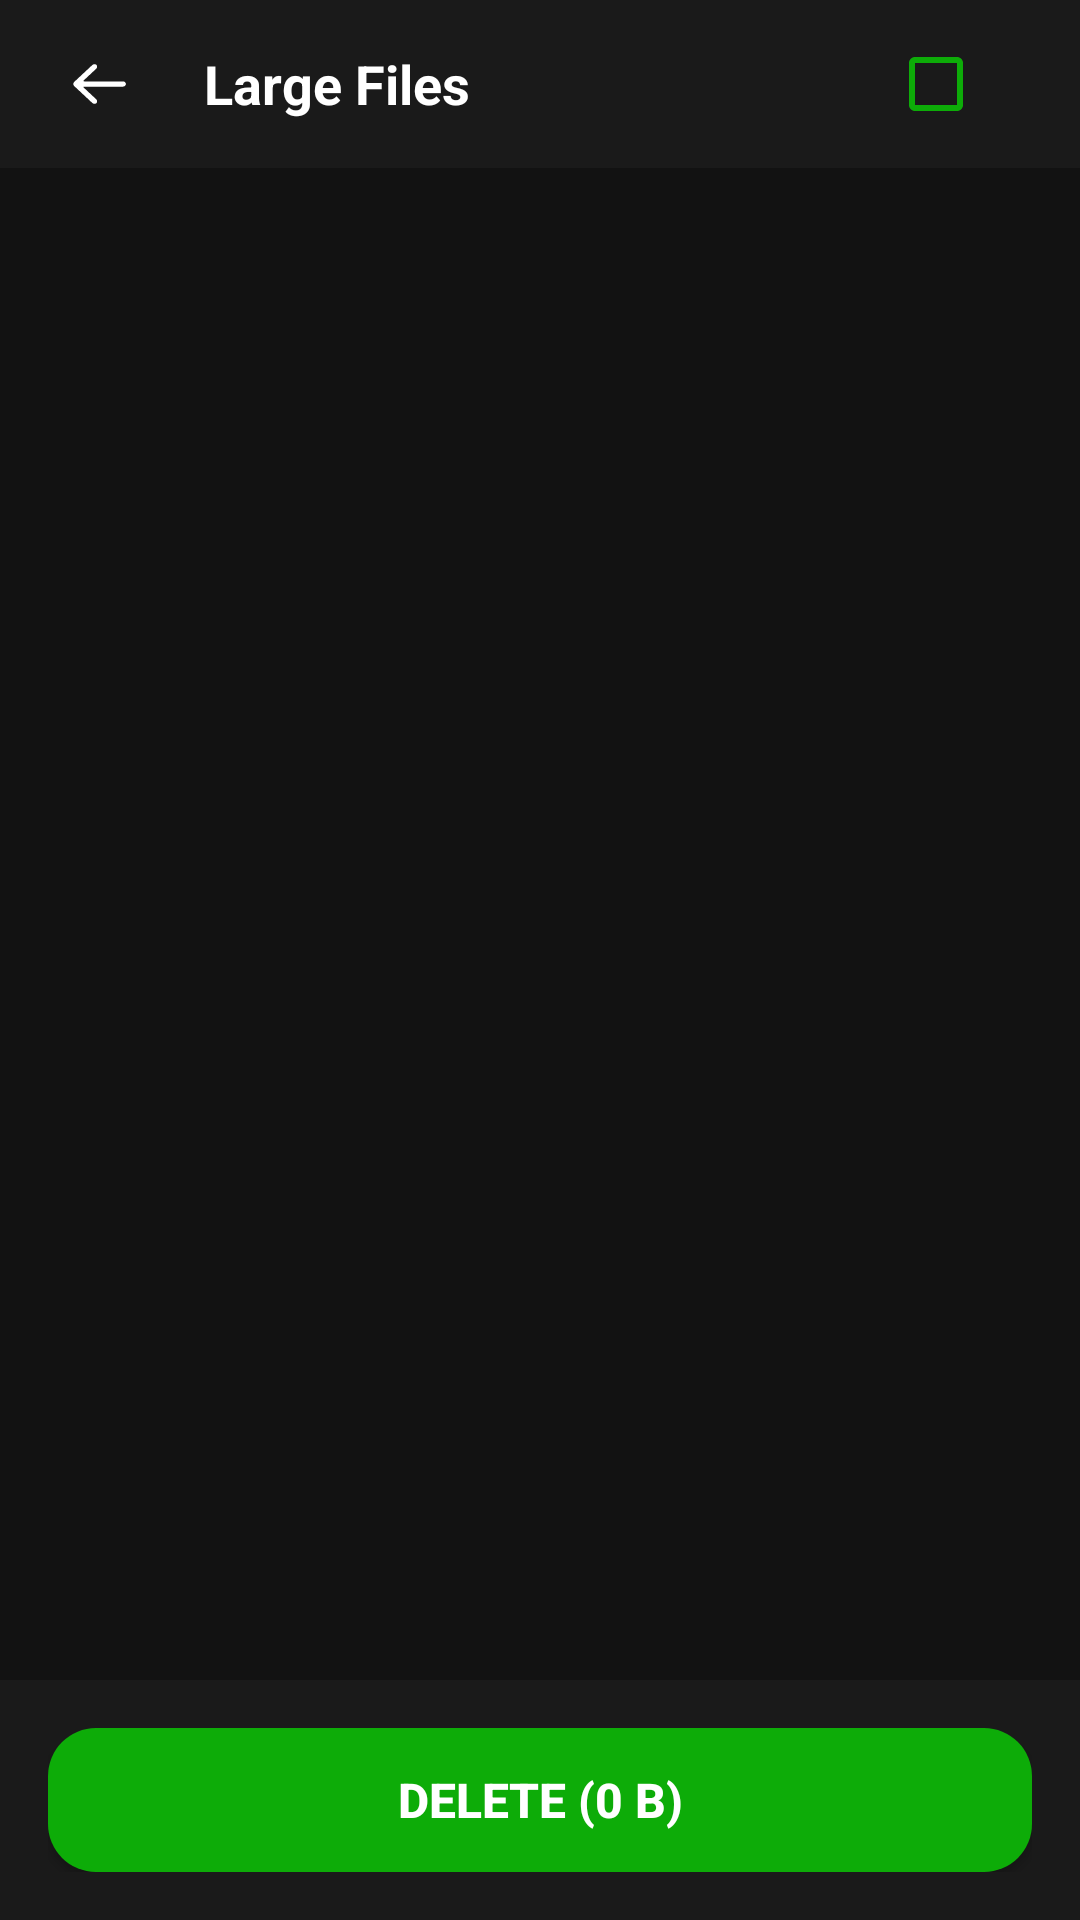

Icon click points for this 1080×1920 phone screenshot, format (x=x, y=y):
back: (x=99, y=84)
